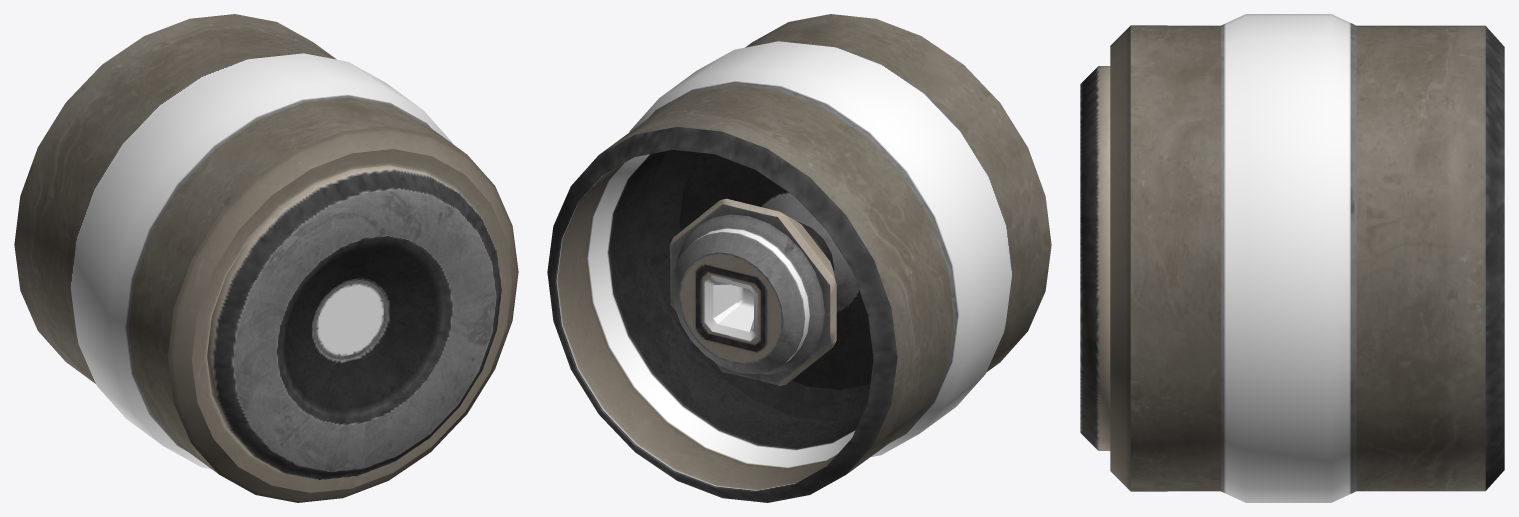
File: HoloThrower.fbx
3 renders of one model, left to right at view 1: azimuth 30°, elevation 25°; view 2: azimuth 150°, elevation 25°; view 3: azimuth 270°, elevation 25°, orthographic. The views are drawn at different scales.
Parts seen in each view (by area): view 1: HoloThrowerBody; view 2: HoloThrowerBody; view 3: HoloThrowerBody.
Part boxes in pixels (<box>): HoloThrowerBody: <box>14,14,518,502</box>; HoloThrowerBody: <box>547,14,1051,502</box>; HoloThrowerBody: <box>1080,14,1504,502</box>.
Size of the model in its own units: 3.95 by 3.95 by 3.42.
Materials: 1 (1 with a texture image).
